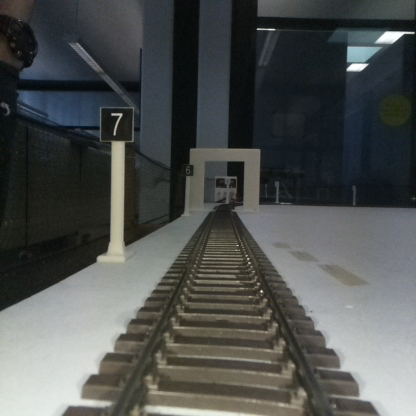black-info-6: (182, 165, 193, 215)
black-info-7: (100, 108, 133, 263)
